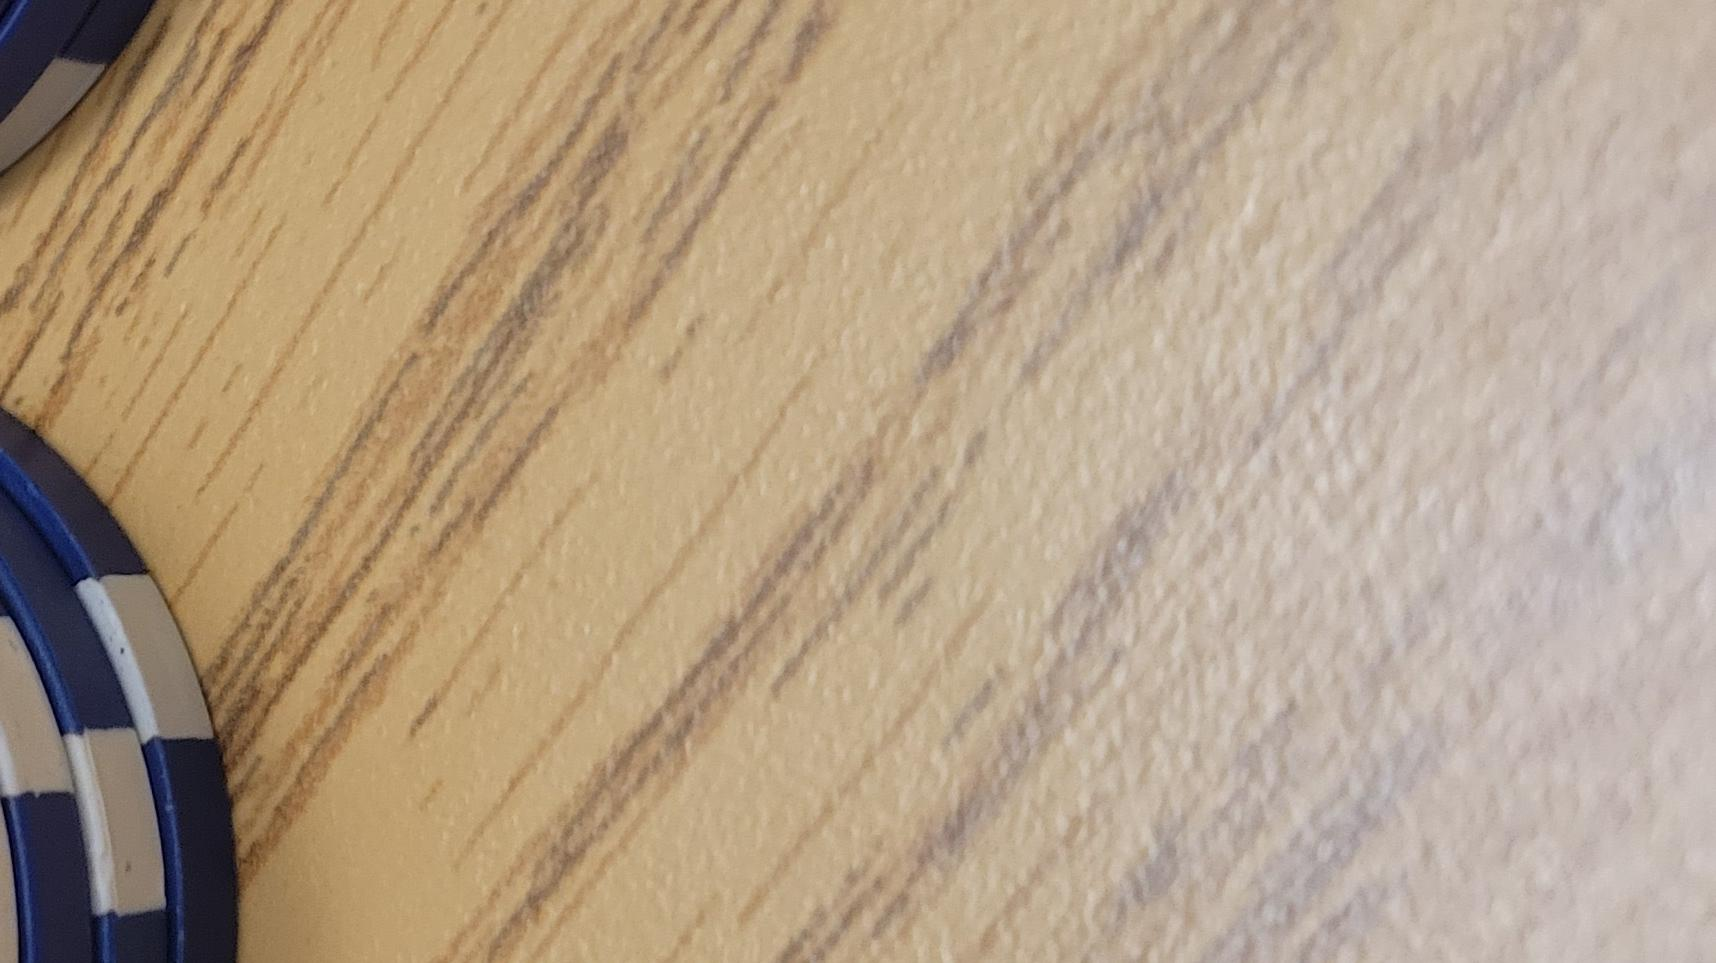Chip: (1, 339, 709, 963)
